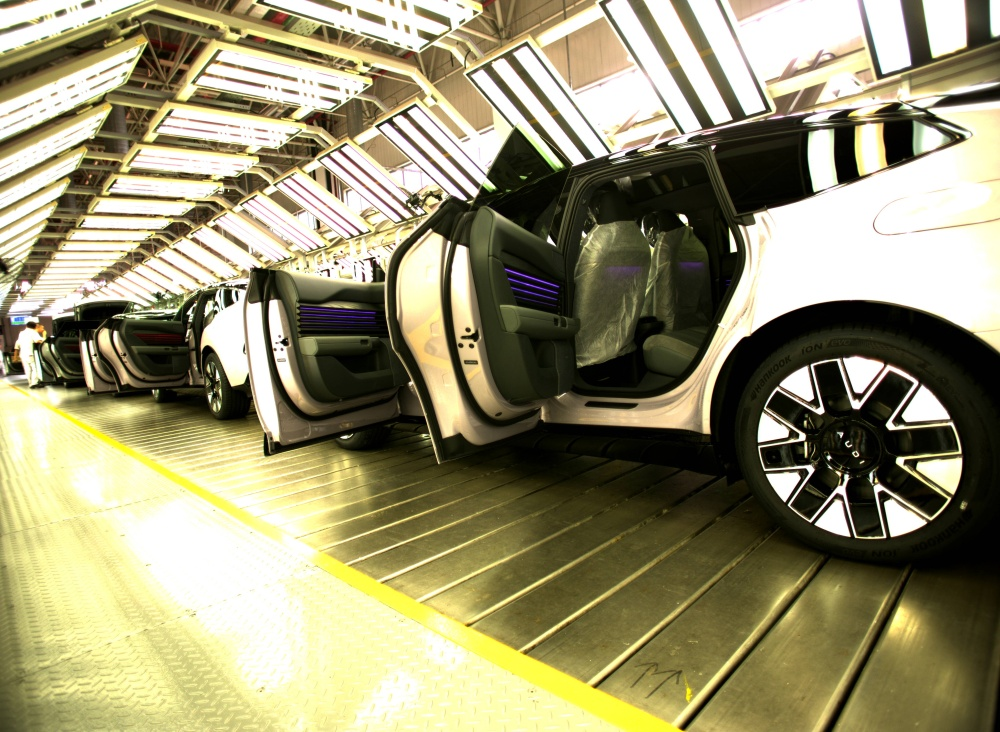armrest_color: (498, 303, 579, 338), (297, 336, 384, 357)
panel_color: (502, 260, 564, 313), (295, 301, 382, 335)
